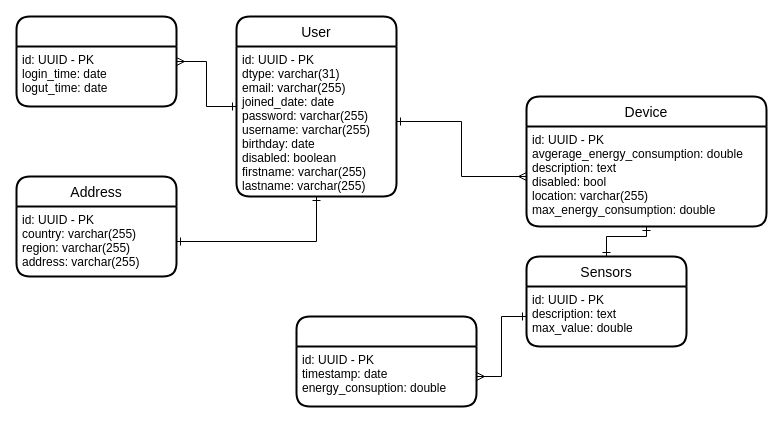
Image size: 783x423. Some labels were removed from this diagram. Here are the shapes that lost their labels. From the top down, the box of each, then its label:
(15, 15, 177, 107): AuthSessions
(295, 315, 477, 407): Record
